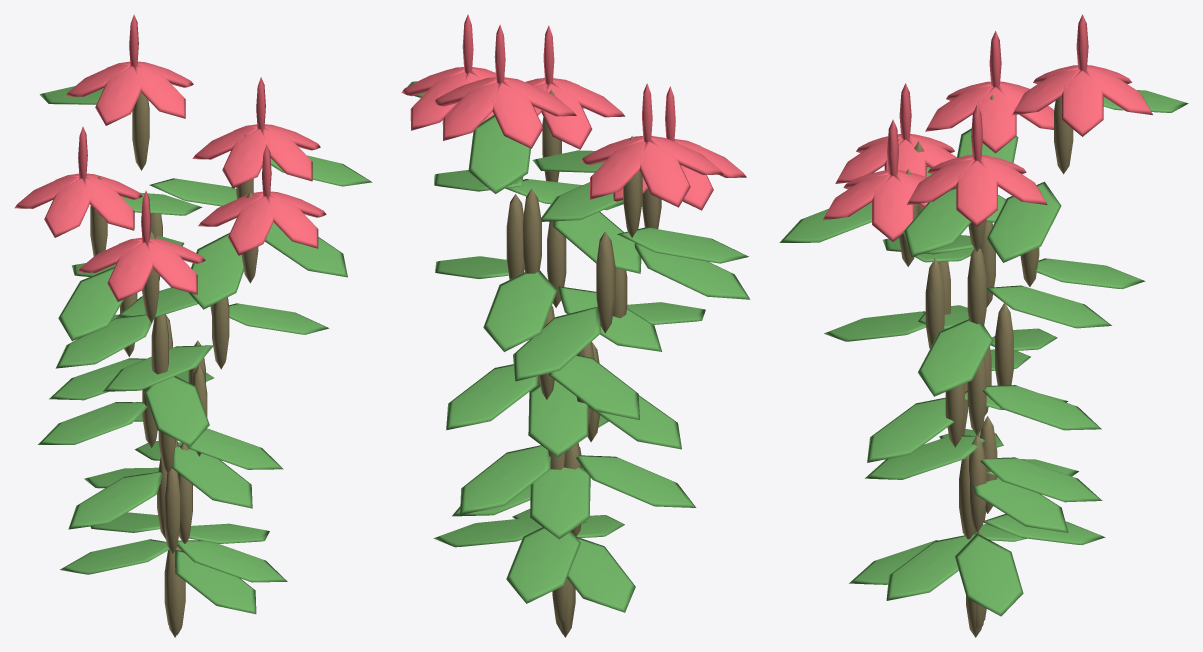
The model's file is bloom.glb.
The picture shows the model from 3 angles, left to right: view 1: azimuth 30°, elevation 25°; view 2: azimuth 150°, elevation 25°; view 3: azimuth 270°, elevation 25°; orthographic projection. The views are drawn at different scales.
Size of the model in its own units: 1.27 by 2.29 by 1.35.
